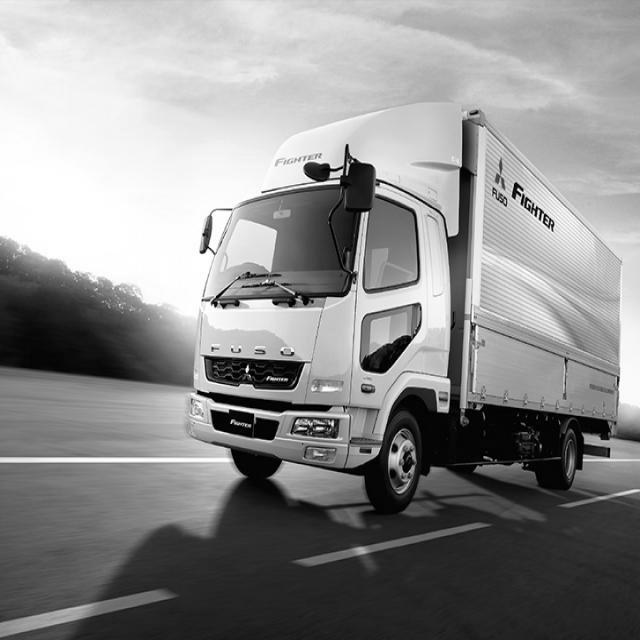truck: (173, 136, 480, 516)
